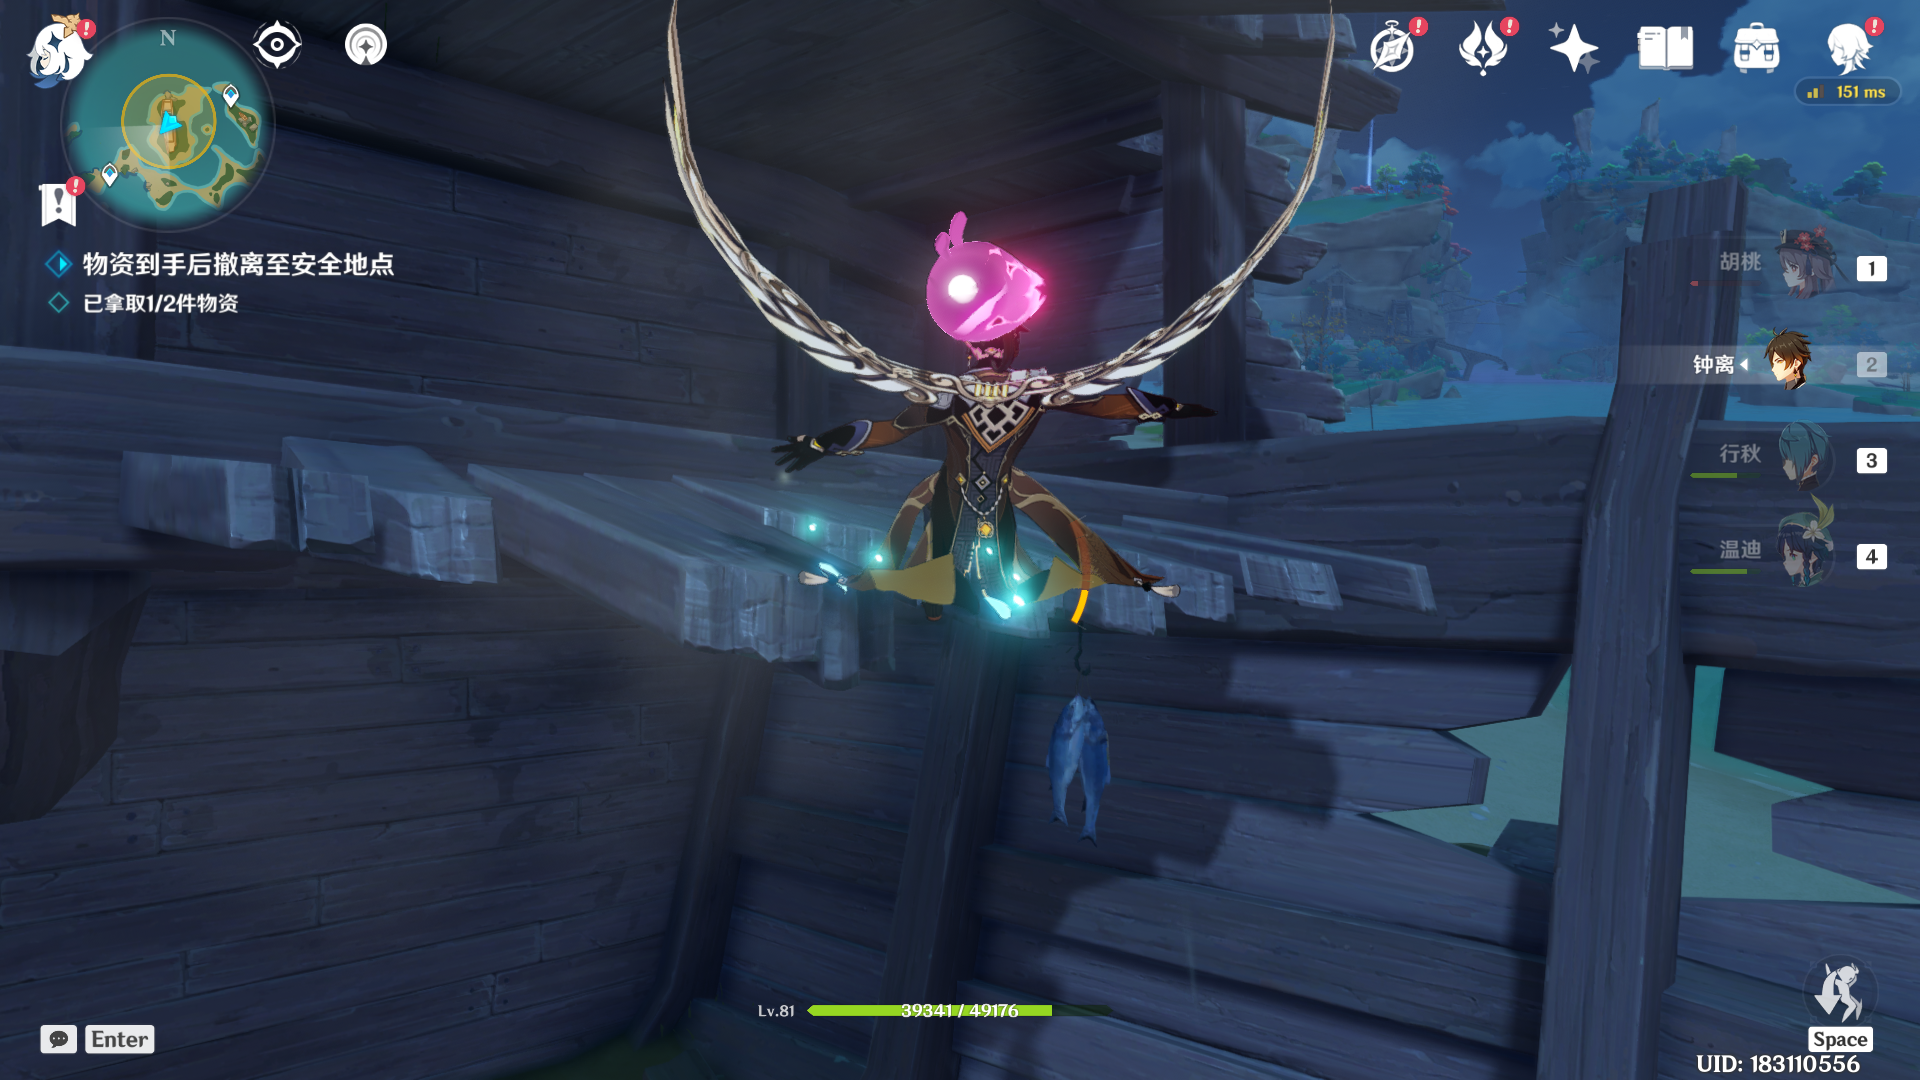character: (737, 262, 1234, 696)
